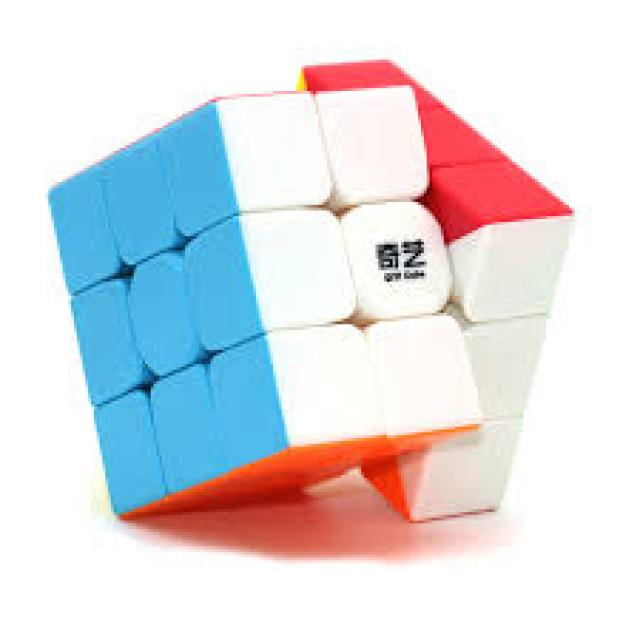Cube-3x3: (38, 146, 514, 502)
